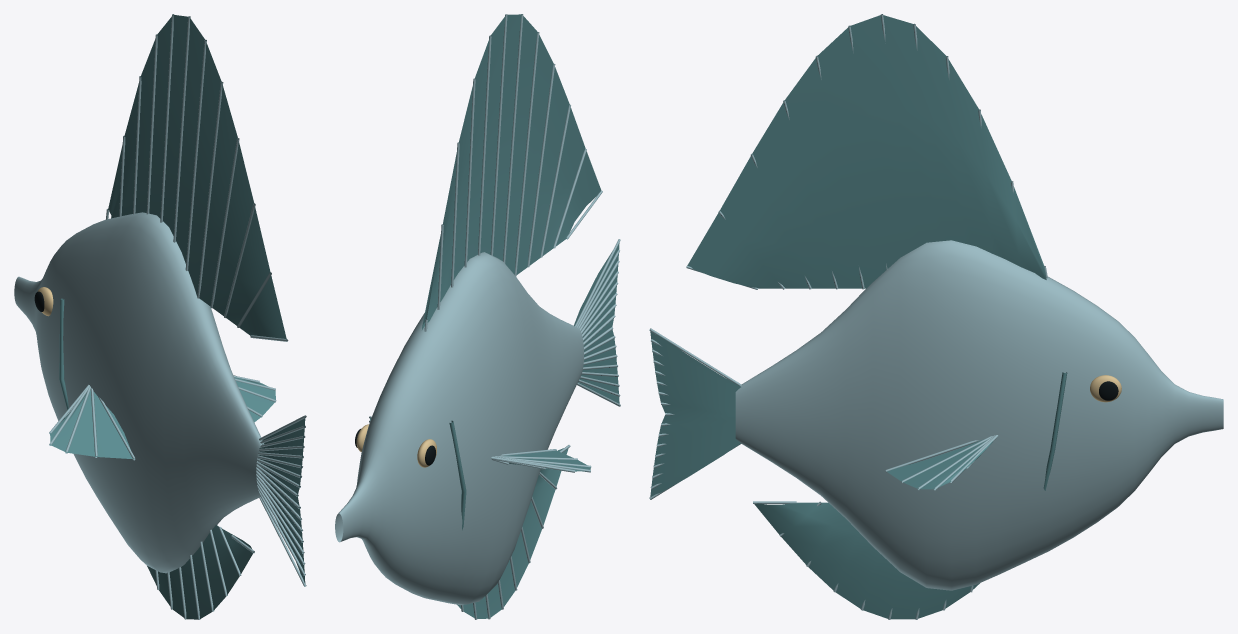
The model's file is bannerfish.glb.
The picture shows the model from 3 angles, left to right: view 1: azimuth 30°, elevation 25°; view 2: azimuth 150°, elevation 25°; view 3: azimuth 270°, elevation 25°; orthographic projection. The views are drawn at different scales.
Visible parts, largest first — view 1: FishSkin, FishFin; view 2: FishSkin, FishFin, Iris; view 3: FishSkin, FishFin.
Boxes of the visible parts, x1,y1,x2,y2 form: FishSkin: [14, 14, 306, 619]; FishFin: [50, 14, 305, 619]; FishSkin: [335, 14, 620, 619]; FishFin: [370, 14, 619, 618]; Iris: [356, 424, 436, 467]; FishSkin: [649, 14, 1223, 619]; FishFin: [650, 14, 1067, 619].
Bounding box in the file's own units: 0.6442 × 1.64 × 1.41.
